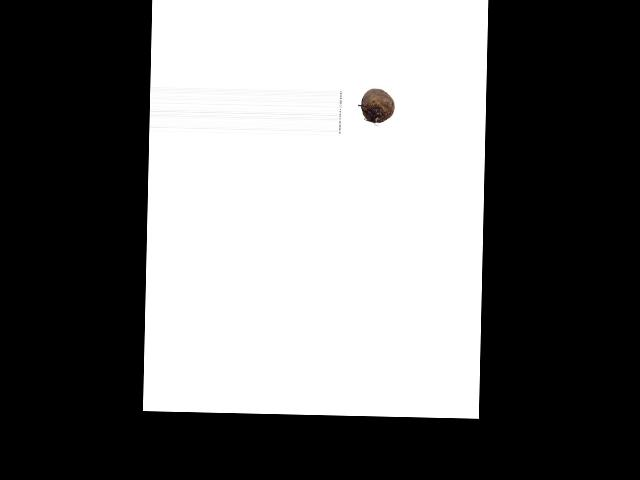beet: (361, 87, 394, 122)
